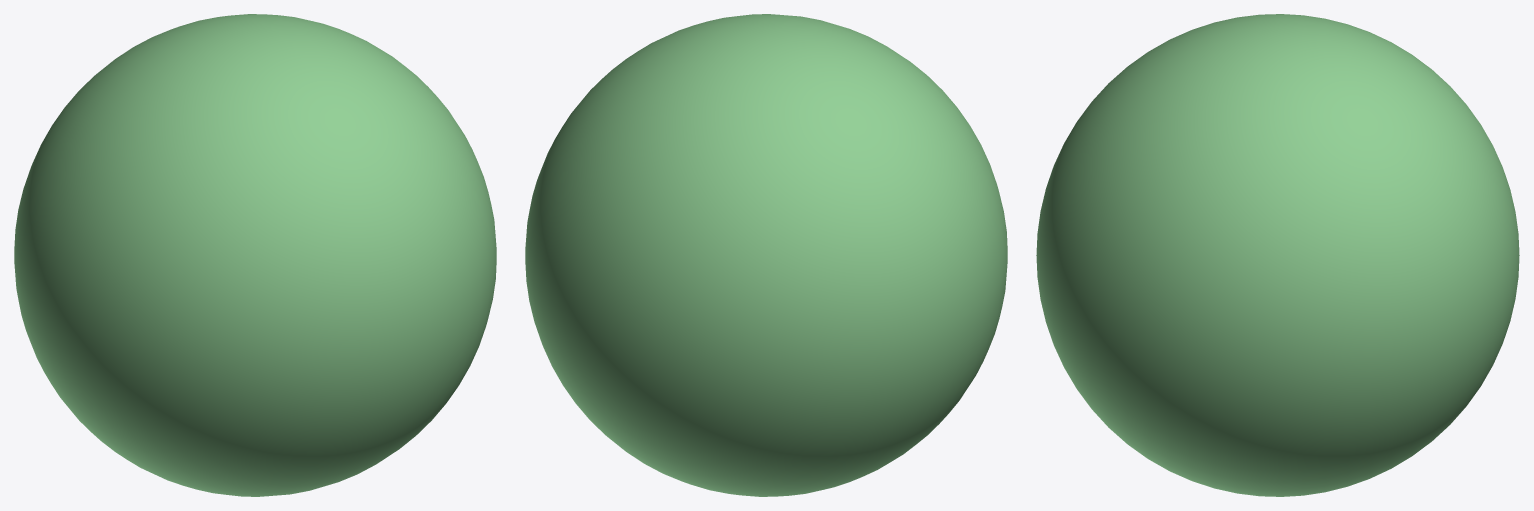
Rendered from KugelTest.glb.
3 renders of one model, left to right at view 1: azimuth 30°, elevation 25°; view 2: azimuth 150°, elevation 25°; view 3: azimuth 270°, elevation 25°, orthographic.
Parts seen in each view (by area): view 1: Body1; view 2: Body1; view 3: Body1.
Part boxes in pixels (x1=…): Body1: x1=14, y1=14, x2=496, y2=496; Body1: x1=525, y1=14, x2=1007, y2=496; Body1: x1=1036, y1=14, x2=1519, y2=496.
Bounding box in the file's own units: 50 × 49.99 × 50.
